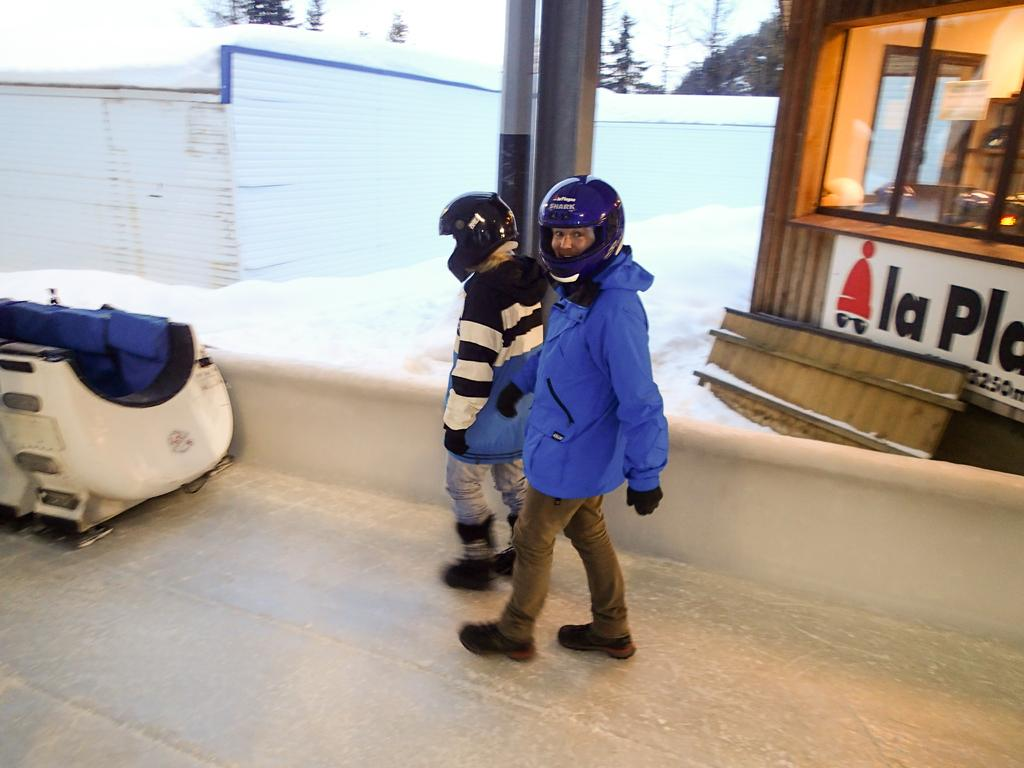helmet: (537, 175, 625, 284), (438, 191, 517, 282)
